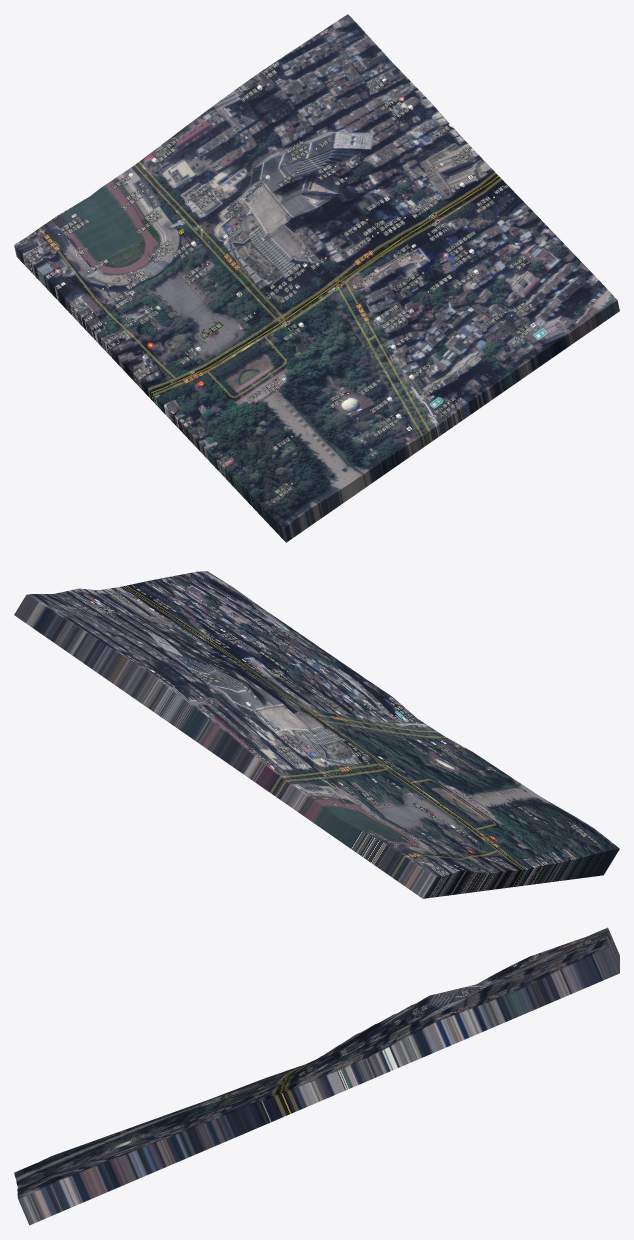
The picture shows the model from 3 angles, top to bottom: view 1: azimuth 30°, elevation 25°; view 2: azimuth 150°, elevation 25°; view 3: azimuth 270°, elevation 25°; orthographic projection. The views are drawn at different scales.
Visible parts, largest first — view 1: 0_9_14; view 2: 0_9_14; view 3: 0_9_14.
Boxes of the visible parts, <box> form: 0_9_14: <box>14,14,619,542</box>; 0_9_14: <box>14,571,619,898</box>; 0_9_14: <box>14,927,619,1225</box>.
Size of the model in its own units: 602 by 450 by 556.
1 material, 1 textured.
